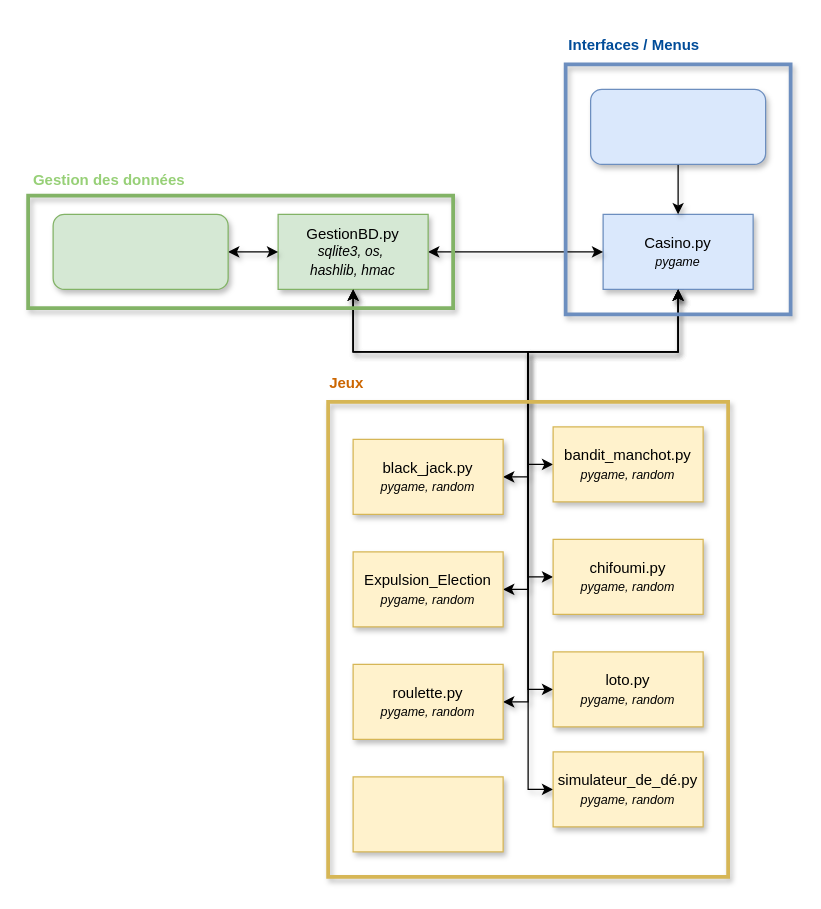
Some shapes in this 821 by 909 pixel diagram are drawn without their labels. Each missing label, with the centre of its shape:
"BaseDonnéeCasino.bd" belongs at (x=141, y=253).
"Sino.jpg" belongs at (x=678, y=128).
"Texas_Holdem.py (Non utilisé)" belongs at (x=429, y=816).
